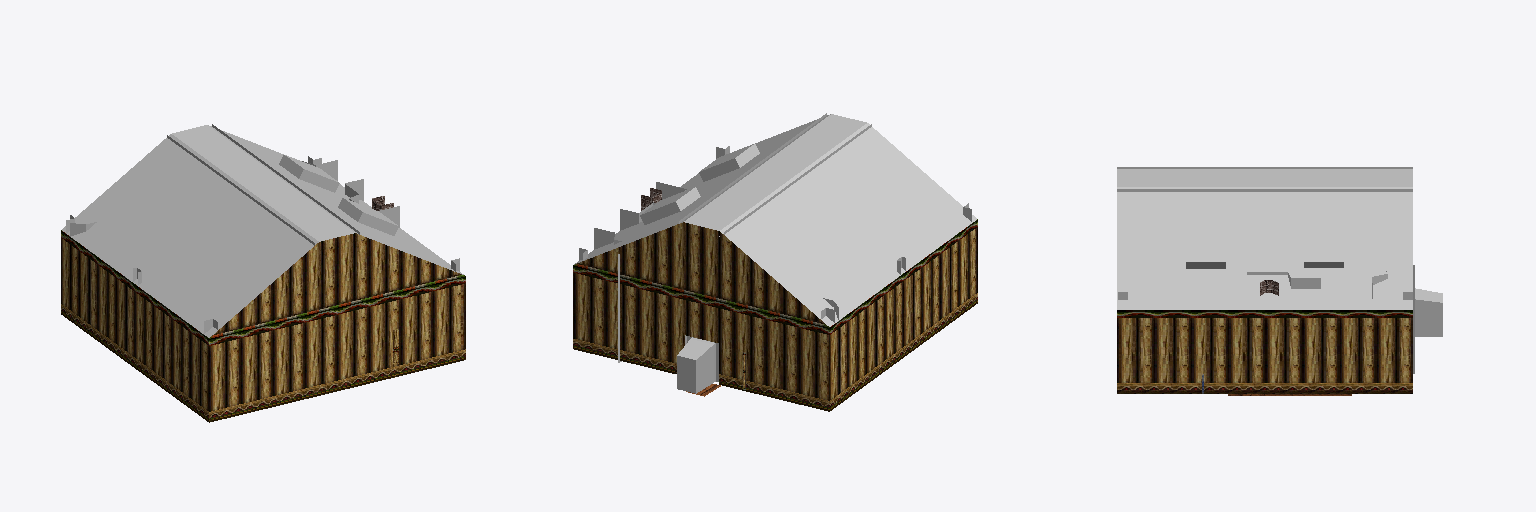
3 views of the same model, side by side, from view 1: azimuth 30°, elevation 25°; view 2: azimuth 150°, elevation 25°; view 3: azimuth 270°, elevation 25° (orthographic).
Visible parts, largest first — view 1: #Room0#_Walls_WoodWall#SFX_A, #Room0#_Walls1_WoodPlanks2#SFX_A, #Room0#_BottomTrim1_BottomTrim#SFX_A, #Room0#_Oven_Collision#SFX_2#NoMesh; view 2: #Room0#_Walls_WoodWall#SFX_A, #Room0#_Walls1_WoodPlanks2#SFX_A, #Room0#_BottomTrim1_BottomTrim#SFX_A, #Room0#_Doorway_WoodPlanks2#SFX_A, #Room0#_Oven_Collision#SFX_2#NoMesh; view 3: #Room0#_Walls1_WoodPlanks2#SFX_A, #Room0#_Walls_WoodWall#SFX_A, #Room0#_BottomTrim1_BottomTrim#SFX_A, #Room0#_Doorway_WoodPlanks2#SFX_A, #Room0#_Beamer10_WoodPlanks2#SFX_A, #Room0#_Oven_Collision#SFX_2#NoMesh, #Room0#_Beamer9_WoodPlanks2#SFX_A.
Boxes of the visible parts, x1=… form: #Room0#_Walls_WoodWall#SFX_A: x1=61, y1=230, x2=465, y2=411; #Room0#_Walls1_WoodPlanks2#SFX_A: x1=62, y1=125, x2=463, y2=337; #Room0#_BottomTrim1_BottomTrim#SFX_A: x1=61, y1=304, x2=465, y2=422; #Room0#_Oven_Collision#SFX_2#NoMesh: x1=70, y1=160, x2=399, y2=236; #Room0#_Walls_WoodWall#SFX_A: x1=573, y1=219, x2=977, y2=400; #Room0#_Walls1_WoodPlanks2#SFX_A: x1=574, y1=114, x2=976, y2=326; #Room0#_BottomTrim1_BottomTrim#SFX_A: x1=573, y1=293, x2=977, y2=411; #Room0#_Doorway_WoodPlanks2#SFX_A: x1=677, y1=335, x2=718, y2=393; #Room0#_Oven_Collision#SFX_2#NoMesh: x1=594, y1=182, x2=838, y2=404; #Room0#_Walls1_WoodPlanks2#SFX_A: x1=1117, y1=169, x2=1412, y2=309; #Room0#_Walls_WoodWall#SFX_A: x1=1117, y1=310, x2=1412, y2=382; #Room0#_BottomTrim1_BottomTrim#SFX_A: x1=1117, y1=383, x2=1412, y2=393; #Room0#_Doorway_WoodPlanks2#SFX_A: x1=1415, y1=288, x2=1442, y2=336; #Room0#_Beamer10_WoodPlanks2#SFX_A: x1=1117, y1=189, x2=1412, y2=191; #Room0#_Oven_Collision#SFX_2#NoMesh: x1=1247, y1=265, x2=1414, y2=373; #Room0#_Beamer9_WoodPlanks2#SFX_A: x1=1117, y1=167, x2=1412, y2=168.
Bounding box in the file's own units: 660 × 384 × 726.
26 materials, 18 textured.